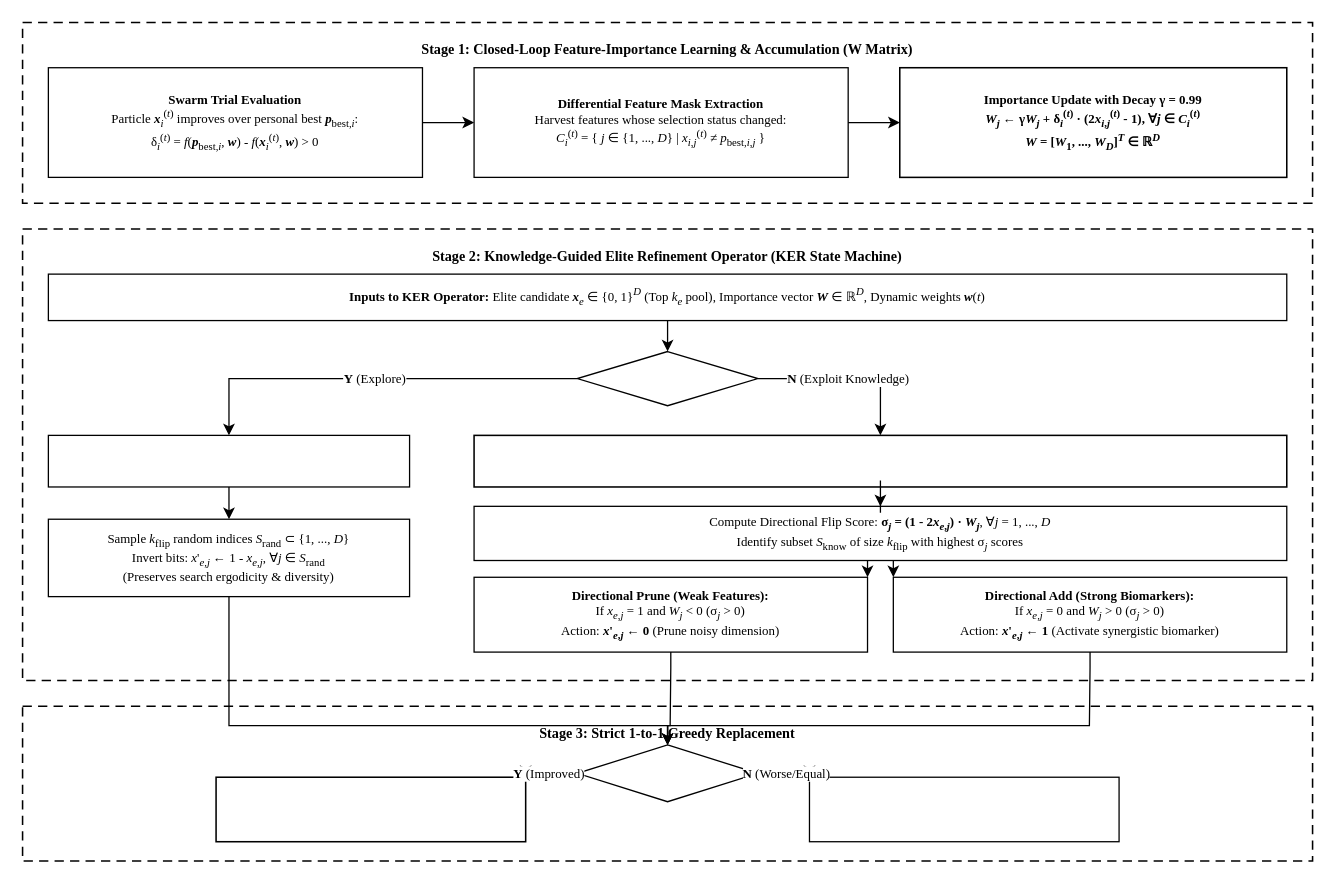
This 1336x885 diagram has some shape labels left out. Here are the shapes that lost their labels. From the top down, the centre of each, then its label:
At point (667, 378): "r < p rand".
At point (228, 460): "Branch 1: Ergodic Random Exploration (Probability p rand )".
At point (880, 460): "Branch 2: Knowledge-Guided Directional Refinement (Probability 1 - p rand )".
At point (667, 773): "f ( x ' e , w ) < f ( x e , w )".
At point (370, 809): "Accept Superior Mutant: x e * ← x ' e (Update elite candidate)".
At point (963, 809): "Preserve Existing Elite: x e * ← x e (Safeguard convergence)".
